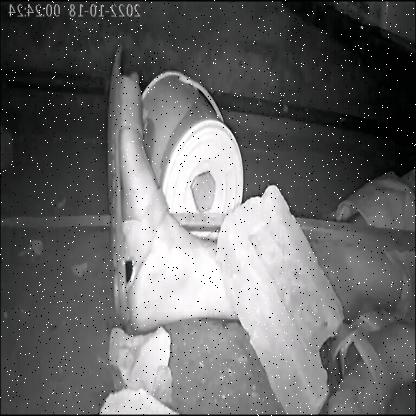leg: (92, 34, 233, 336)
